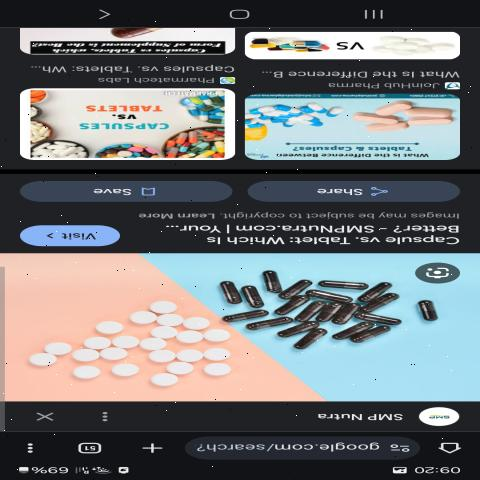Pill: (242, 268, 292, 295), (357, 275, 400, 304), (283, 330, 334, 354), (208, 280, 244, 308), (405, 299, 443, 324), (313, 274, 364, 292), (137, 299, 185, 318), (12, 352, 63, 369), (242, 316, 292, 333), (60, 364, 106, 380), (124, 308, 159, 327), (108, 360, 142, 379), (143, 370, 176, 389), (197, 362, 236, 378), (85, 318, 119, 336), (198, 326, 234, 342), (110, 335, 138, 351), (141, 350, 175, 362)
